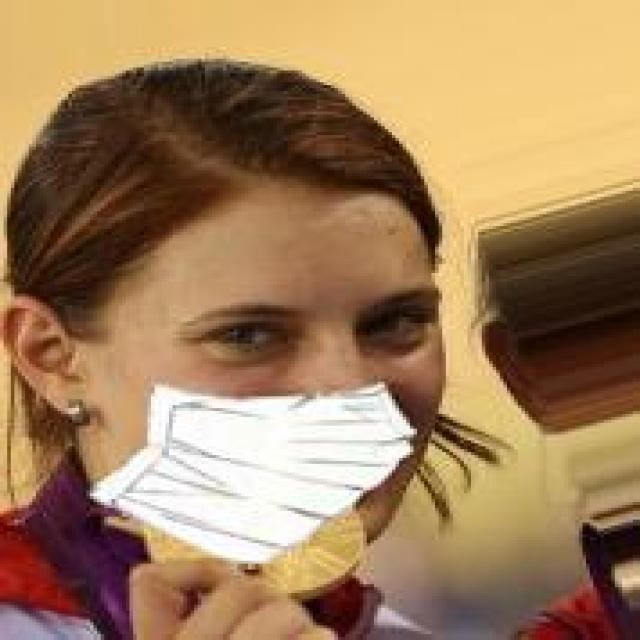mask: (26, 85, 503, 587)
